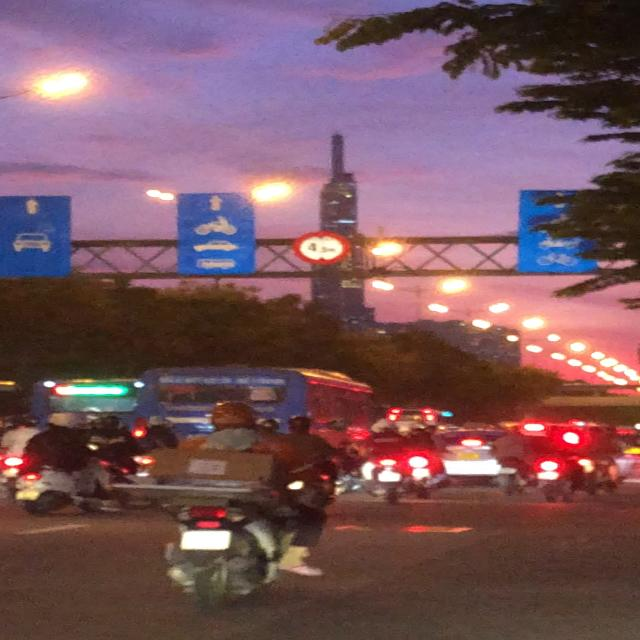Bien bao han che chieu cao: (291, 228, 353, 265)
